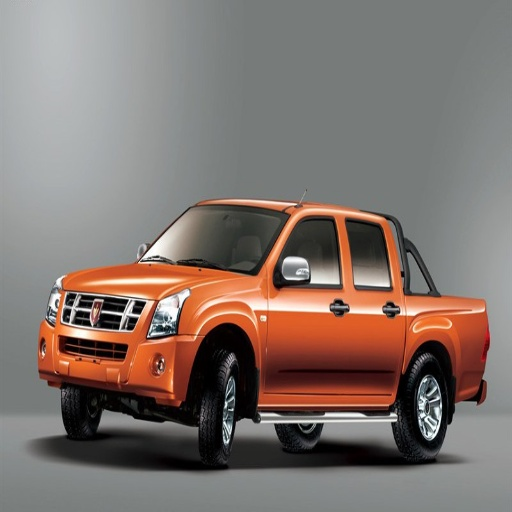front_bumper: (39, 291, 200, 397)
front_glass: (140, 206, 286, 274)
front_left_door: (266, 214, 347, 399)
trunk: (404, 298, 482, 396)
